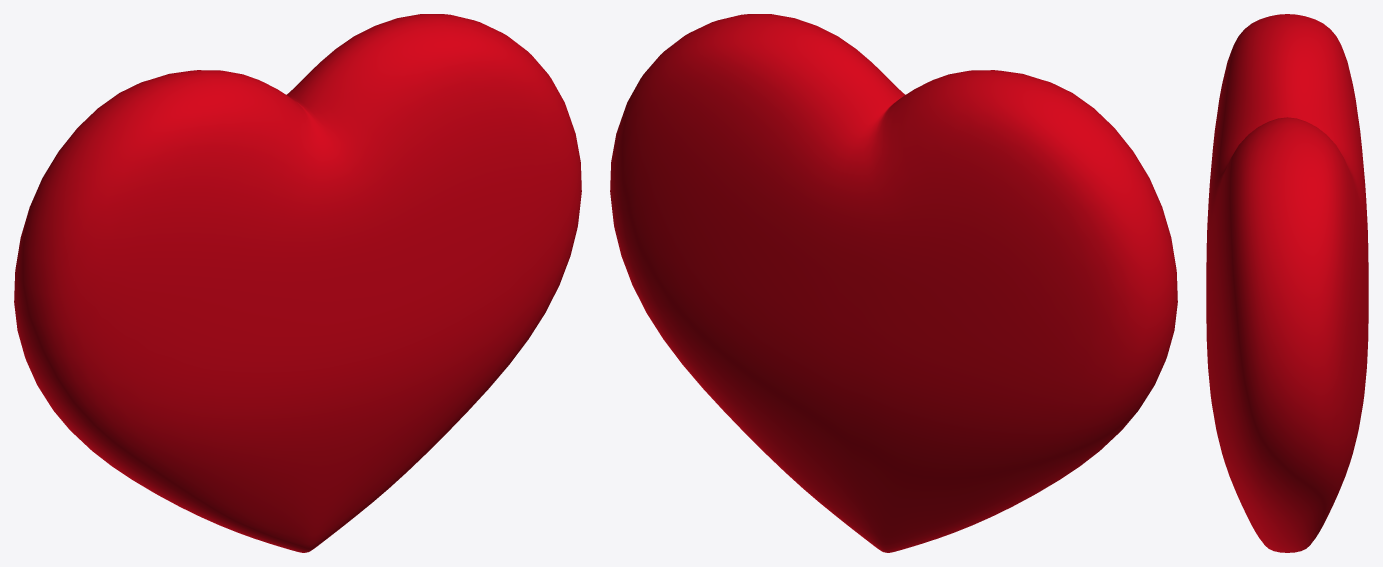
File: heart.glb
The picture shows the model from 3 angles, left to right: view 1: azimuth 30°, elevation 25°; view 2: azimuth 150°, elevation 25°; view 3: azimuth 270°, elevation 25°; orthographic projection. The views are drawn at different scales.
Parts seen in each view (by area): view 1: heart; view 2: heart; view 3: heart.
Part boxes in pixels (box(x1,y1,x2,y2)): heart: box(14, 14, 581, 552); heart: box(610, 14, 1177, 552); heart: box(1206, 14, 1368, 552).
Size of the model in its own units: 1.3 by 1.13 by 0.3524.
